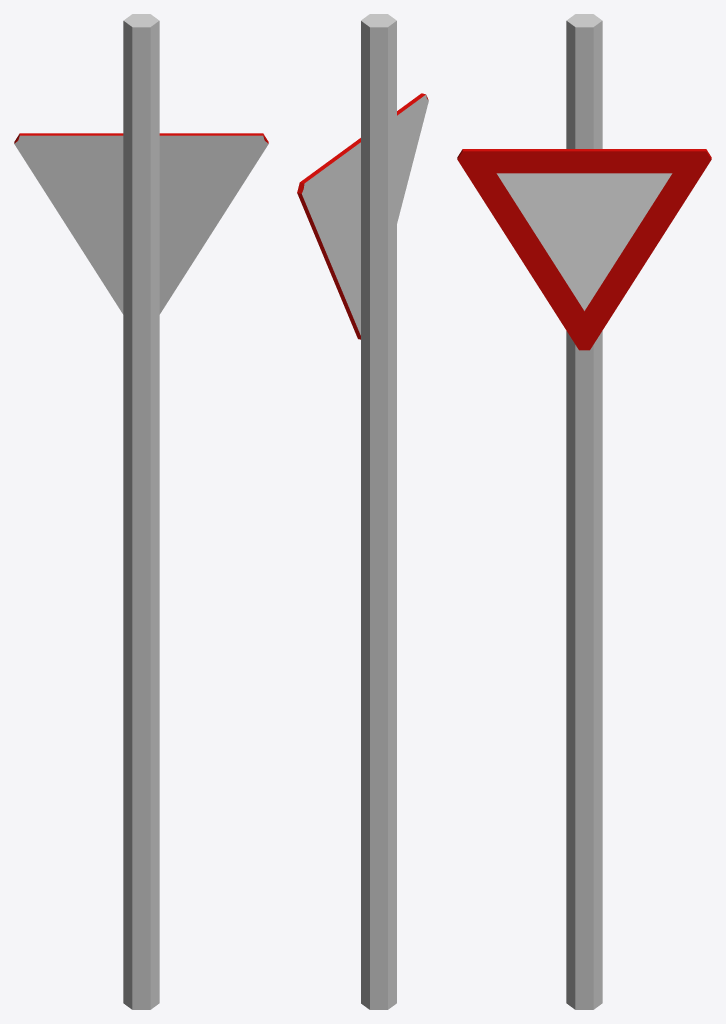
File: give_way.glb
The picture shows the model from 3 angles, left to right: view 1: azimuth 90°, elevation 25°; view 2: azimuth 150°, elevation 25°; view 3: azimuth 270°, elevation 25°; orthographic projection.
Parts seen in each view (by area): view 1: Circle, Plane; view 2: Circle, Plane; view 3: Circle, Plane.
Boxes of the visible parts, x1,y1,x2,y2 form: Circle: [123, 14, 159, 1009]; Plane: [14, 133, 268, 314]; Circle: [361, 14, 396, 1009]; Plane: [297, 93, 428, 339]; Circle: [566, 14, 602, 1009]; Plane: [457, 149, 711, 350].
Bounding box in the file's own units: 0.0676 × 2 × 0.469.
